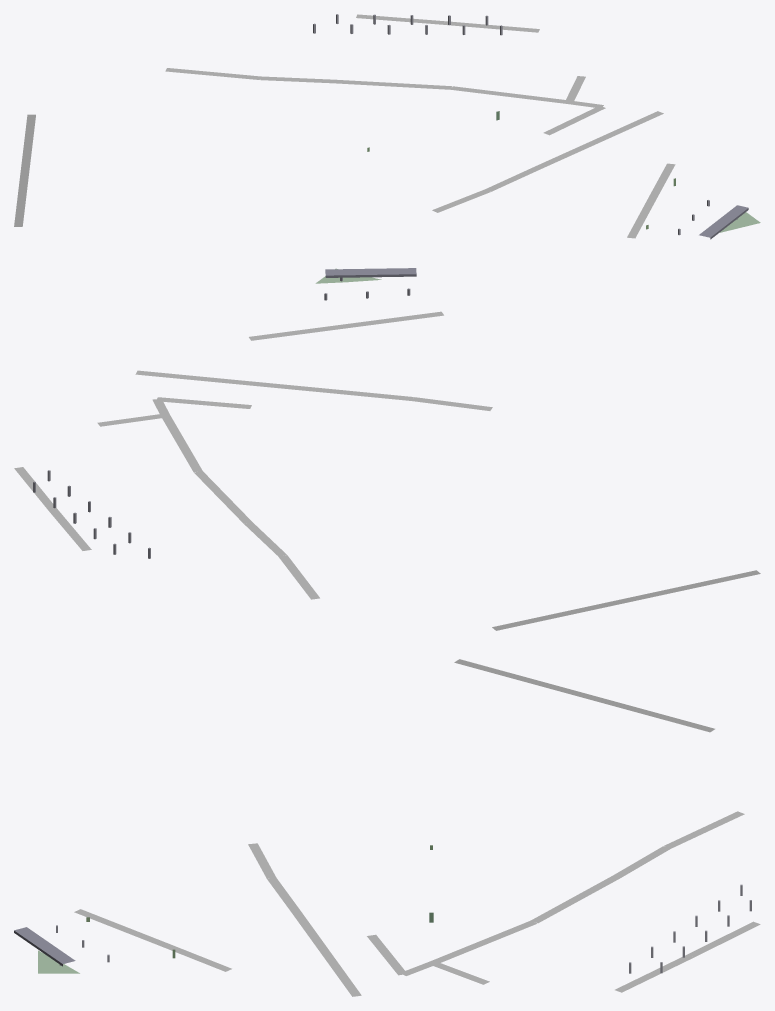
The picture shows the model from 3 angles, top to bottom: view 1: azimuth 30°, elevation 25°; view 2: azimuth 150°, elevation 25°; view 3: azimuth 270°, elevation 25°; orthographic projection. The views are drawn at different scales.
Size of the model in its own units: 559 by 8.44 by 522.
